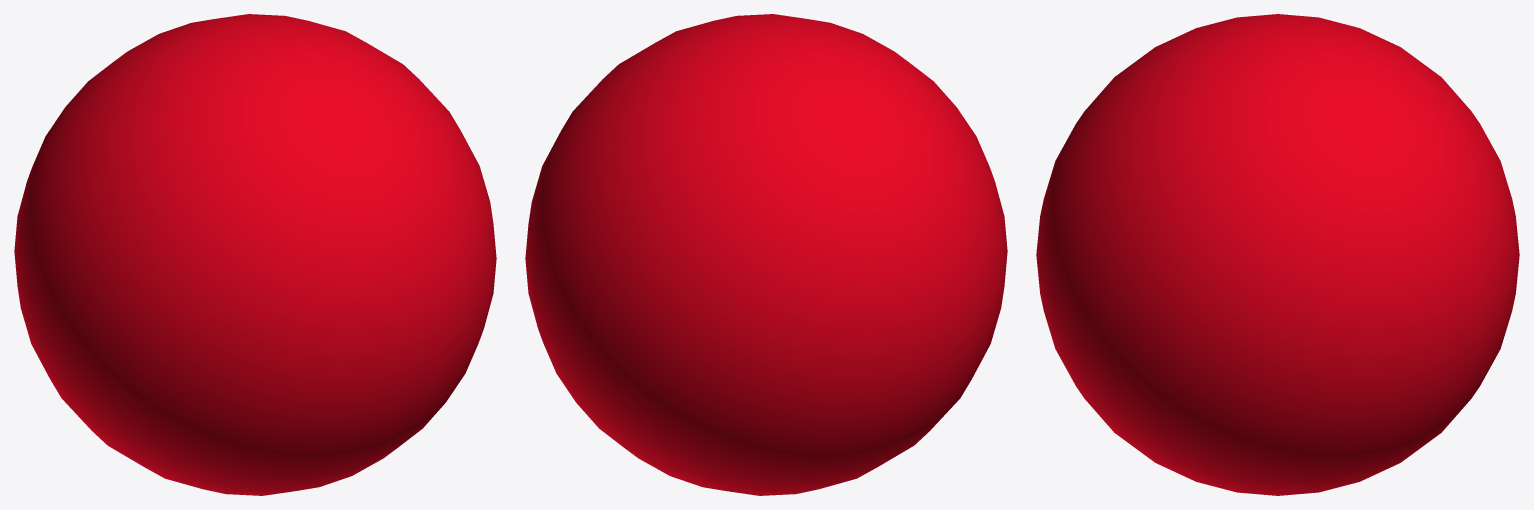
File: 2materialObject.fbx
The picture shows the model from 3 angles, left to right: view 1: azimuth 30°, elevation 25°; view 2: azimuth 150°, elevation 25°; view 3: azimuth 270°, elevation 25°; orthographic projection.
Parts seen in each view (by area): view 1: Roundcube; view 2: Roundcube; view 3: Roundcube.
Part boxes in pixels (x1,y1,x2,y2): Roundcube: (14, 14, 496, 495); Roundcube: (525, 14, 1007, 495); Roundcube: (1036, 14, 1519, 495).
Size of the model in its own units: 2 by 2 by 2.
